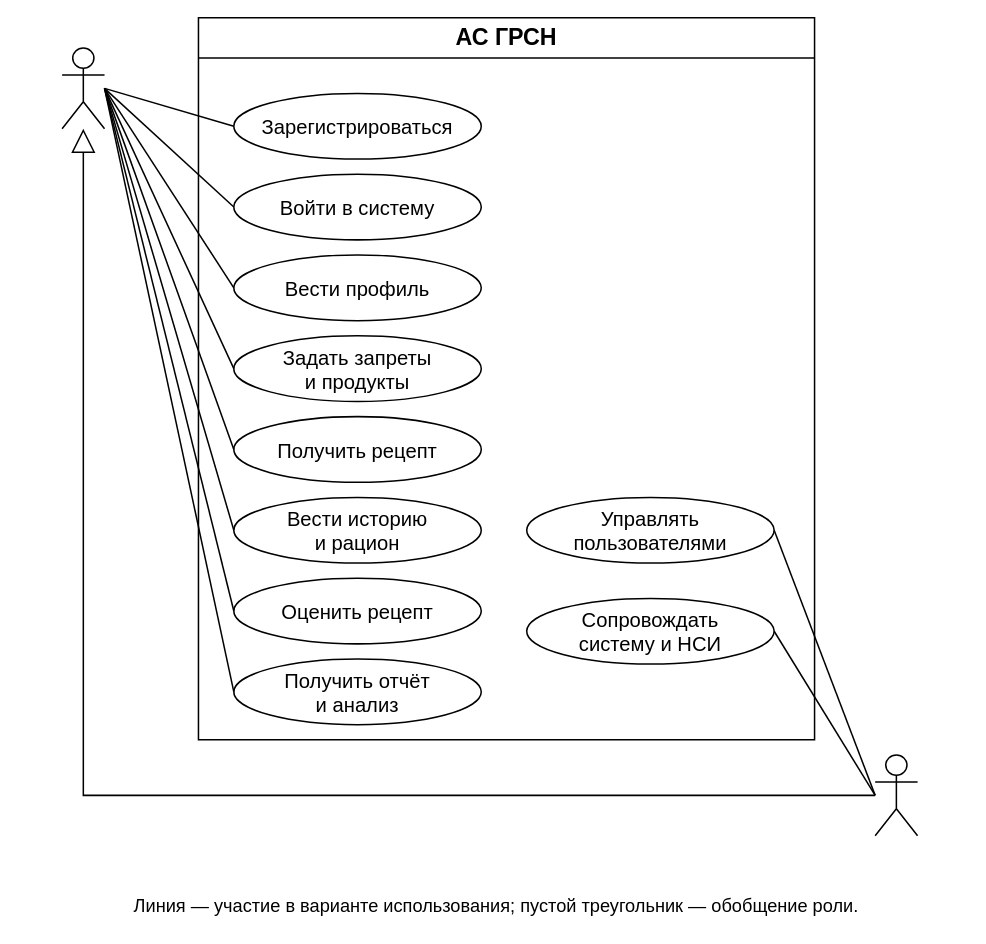
Image size: 986x944. Some labels were removed from this diagram. Each missing label, with the centre of its shape:
Администратор: point (896, 795)
Пользователь: point (83, 88)
